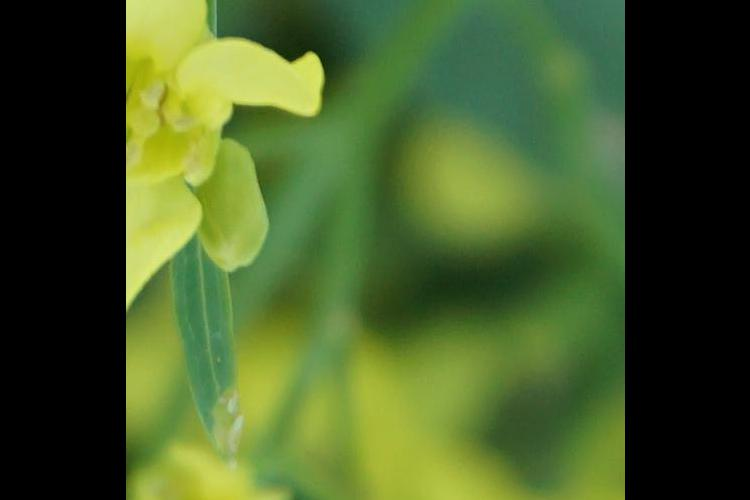bud: (195, 129, 279, 286)
yellow: (127, 1, 340, 317)
